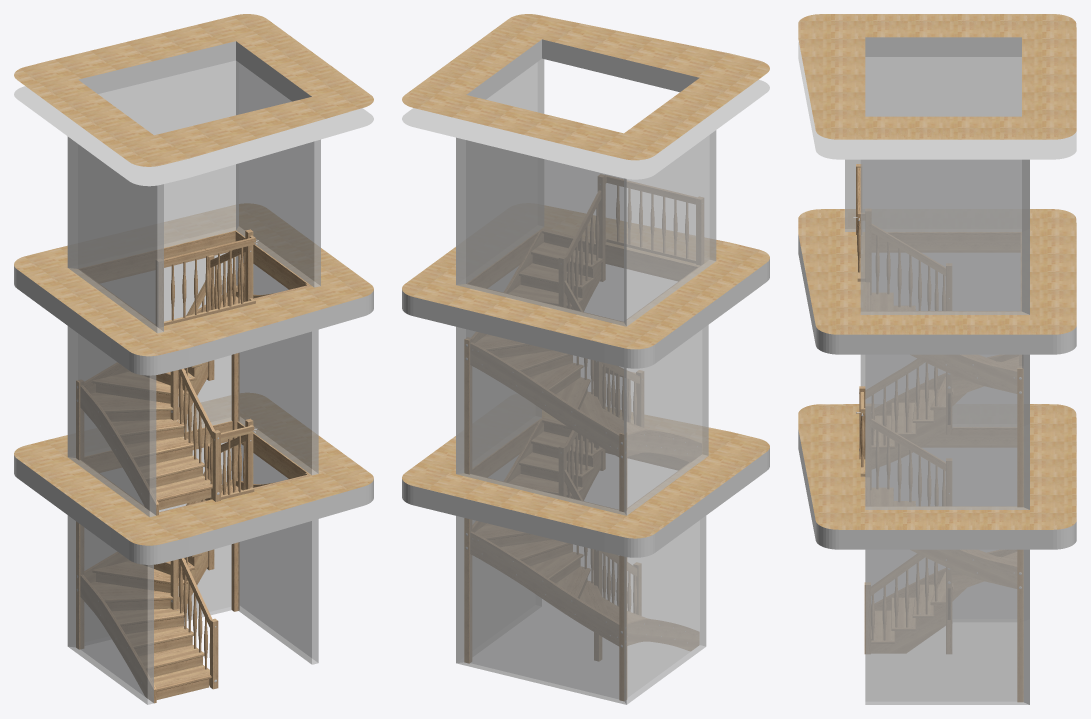
Rendered from Fedorovskoe.dae.
The picture shows the model from 3 angles, left to right: view 1: azimuth 30°, elevation 25°; view 2: azimuth 150°, elevation 25°; view 3: azimuth 270°, elevation 25°; orthographic projection. The views are drawn at different scales.
Visible parts, largest first — view 1: StairCon (×39); view 2: StairCon (×34); view 3: StairCon (×32).
Boxes of the visible parts, bbox=[...] form: StairCon (×39): bbox=[14, 14, 373, 704]; StairCon (×34): bbox=[402, 14, 769, 704]; StairCon (×32): bbox=[798, 14, 1076, 704].
Size of what is drawn, in the model's own units: 3.8 by 3.56 by 8.25.
15 materials, 9 textured.
